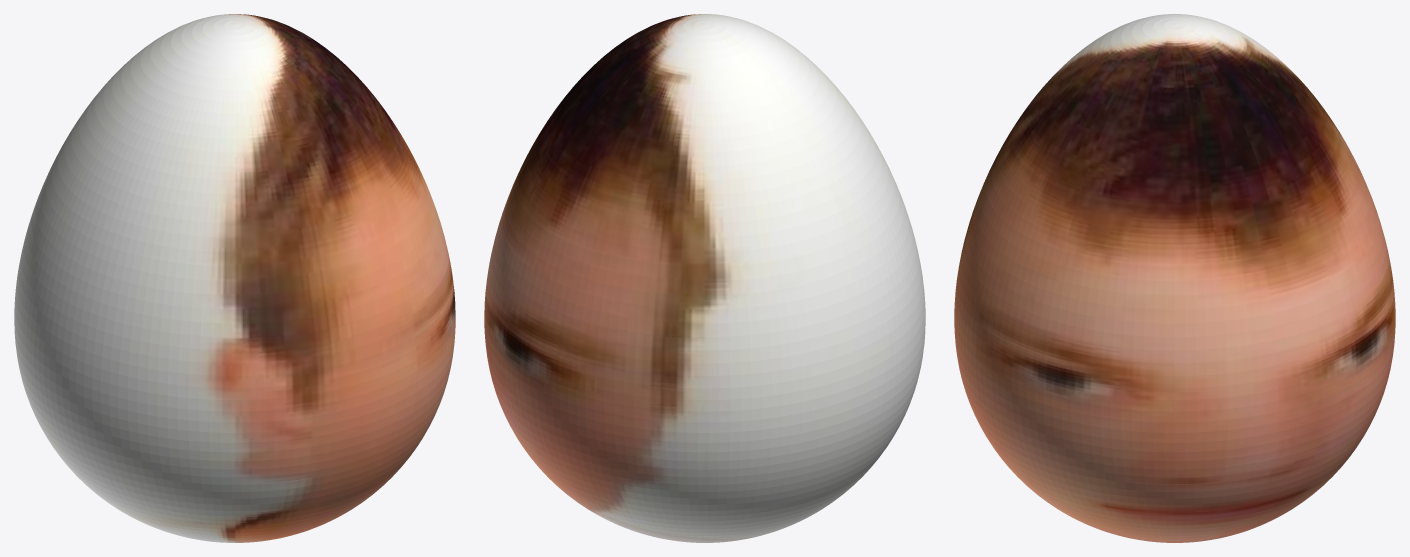
Rendered from kraslica_orig.fbx.
3 views of the same model, side by side, from view 1: azimuth 30°, elevation 25°; view 2: azimuth 150°, elevation 25°; view 3: azimuth 270°, elevation 25° (orthographic).
Visible parts, largest first — view 1: Sphere; view 2: Sphere; view 3: Sphere.
Part boxes in pixels (<box>): Sphere: <box>14,14,455,542</box>; Sphere: <box>484,14,925,542</box>; Sphere: <box>954,14,1395,542</box>.
Size of the model in its own units: 2 by 2.49 by 2.
